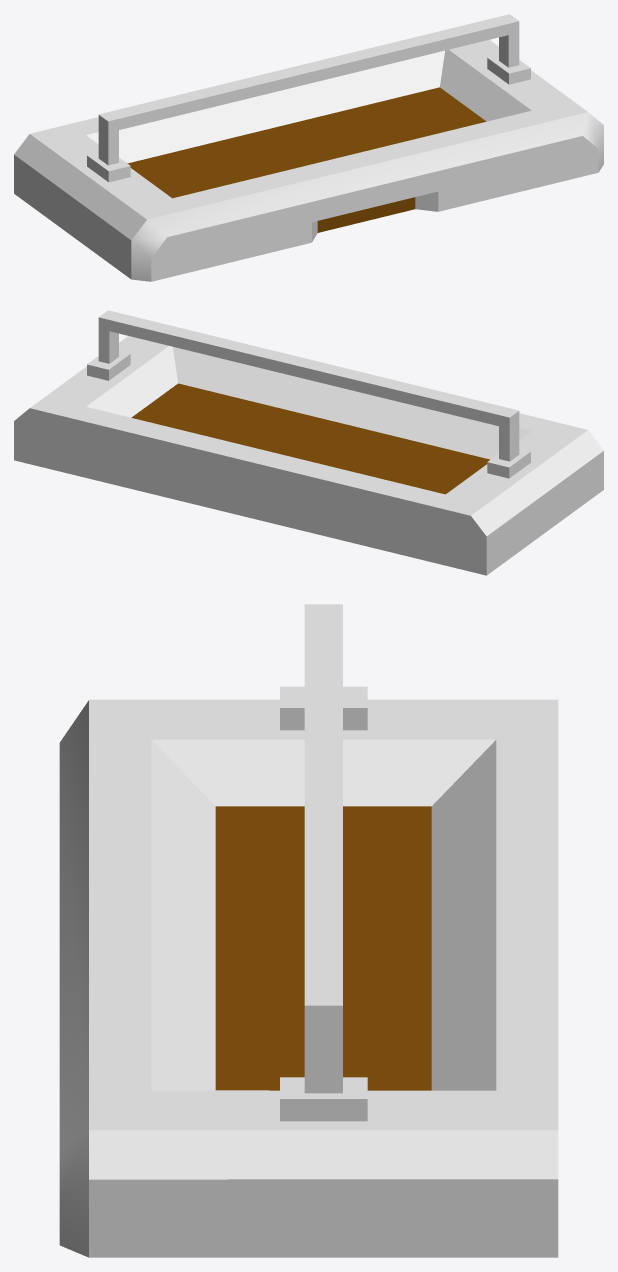
Rendered from Tool_ToolBox_Lid.fbx.
The picture shows the model from 3 angles, top to bottom: view 1: azimuth 30°, elevation 25°; view 2: azimuth 150°, elevation 25°; view 3: azimuth 270°, elevation 25°; orthographic projection. The views are drawn at different scales.
Visible parts, largest first — view 1: Tool_ToolBox_Lid; view 2: Tool_ToolBox_Lid; view 3: Tool_ToolBox_Lid.
Part boxes in pixels (bbox=[...]): Tool_ToolBox_Lid: bbox=[14, 14, 603, 281]; Tool_ToolBox_Lid: bbox=[14, 310, 603, 575]; Tool_ToolBox_Lid: bbox=[59, 604, 558, 1257].
Bounding box in the file's own units: 0.6448 × 0.1448 × 0.2946.
